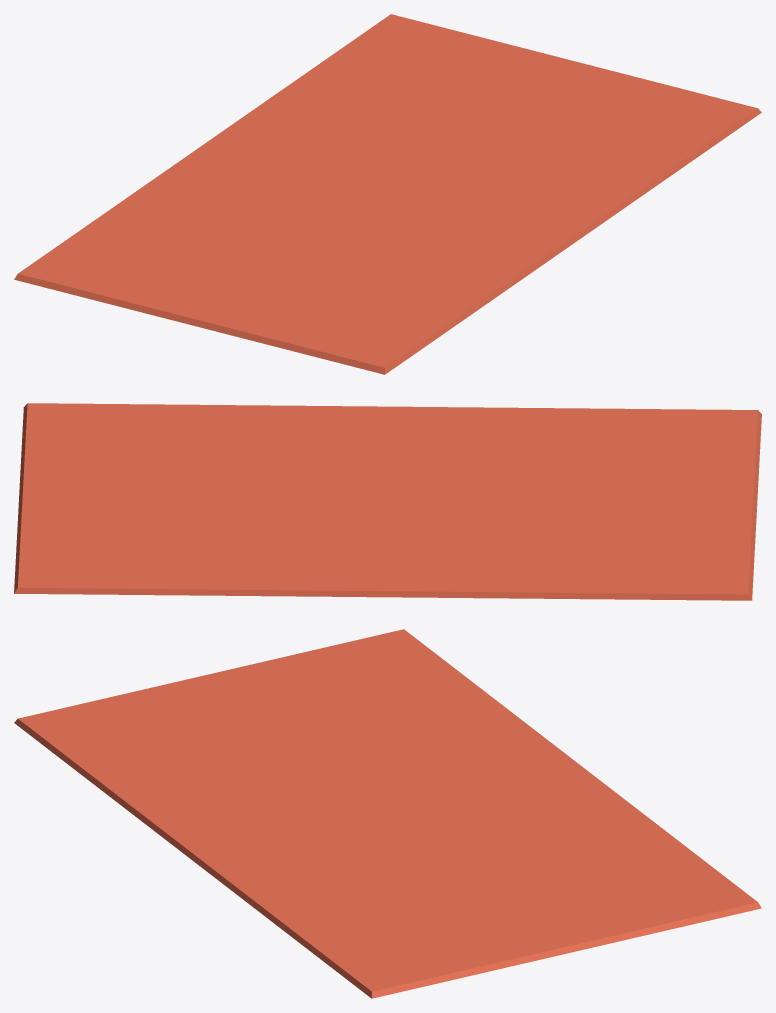
The model's file is ALFOMBRA-ROJA.glb.
3 views of the same model, one above another, from view 1: azimuth 30°, elevation 25°; view 2: azimuth 150°, elevation 25°; view 3: azimuth 270°, elevation 25° (orthographic). The views are drawn at different scales.
Visible parts, largest first — view 1: ALFOMBRA-ROJA; view 2: ALFOMBRA-ROJA; view 3: ALFOMBRA-ROJA.
Boxes of the visible parts, left/top/right/bottom form: ALFOMBRA-ROJA: left=14, top=14, right=761, bottom=374; ALFOMBRA-ROJA: left=14, top=403, right=761, bottom=600; ALFOMBRA-ROJA: left=14, top=629, right=761, bottom=998.
Bounding box in the file's own units: 6.74 × 0.0448 × 5.81.
Materials: 1 (1 with a texture image).
